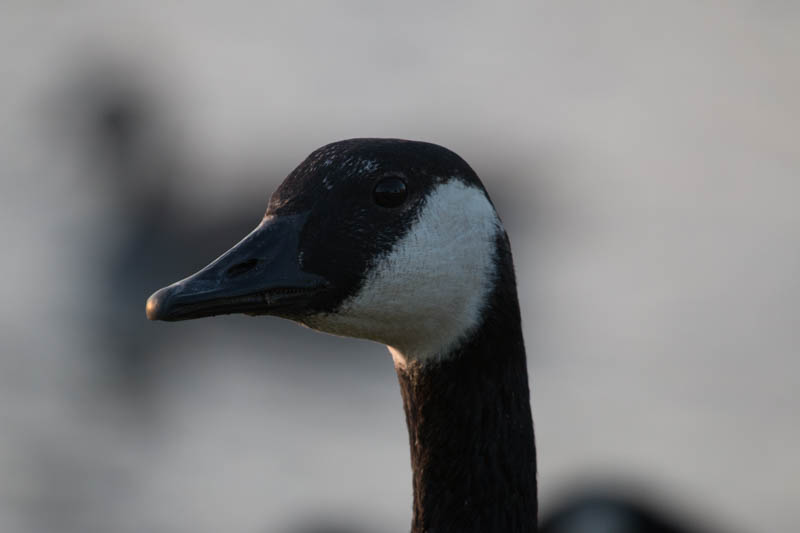goose-head: (143, 136, 518, 376)
